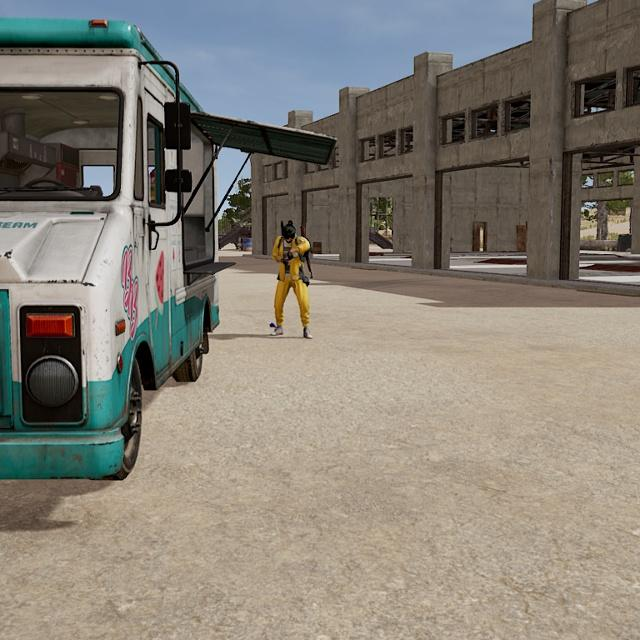head: (280, 221, 298, 244)
people: (269, 220, 315, 339)
